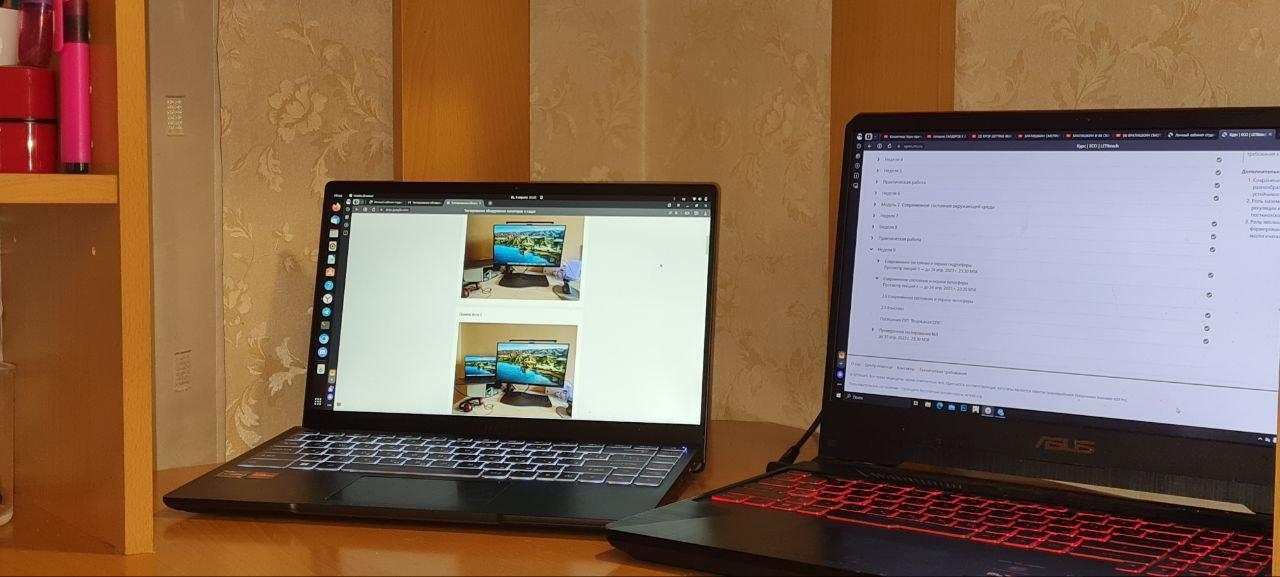monitor: (816, 104, 1280, 512), (301, 175, 721, 454)
